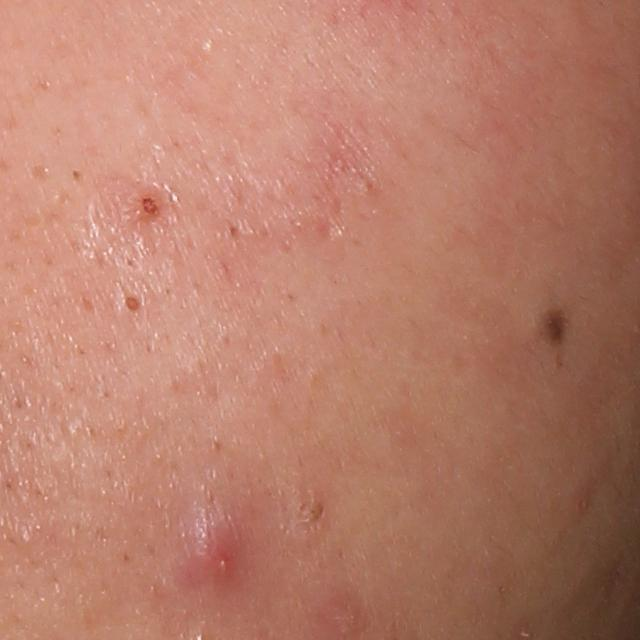comedo: (117, 289, 142, 318)
nevus: (540, 305, 572, 349)
papule: (178, 495, 262, 599), (123, 182, 171, 226)
